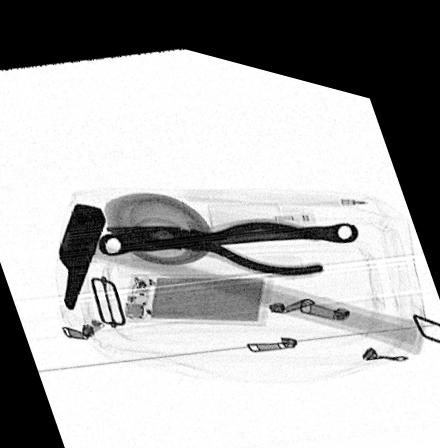Hammer: (57, 199, 423, 331)
Pliers: (103, 206, 344, 261)
Powerbank: (121, 259, 271, 314)
Wrench: (94, 202, 358, 249)
